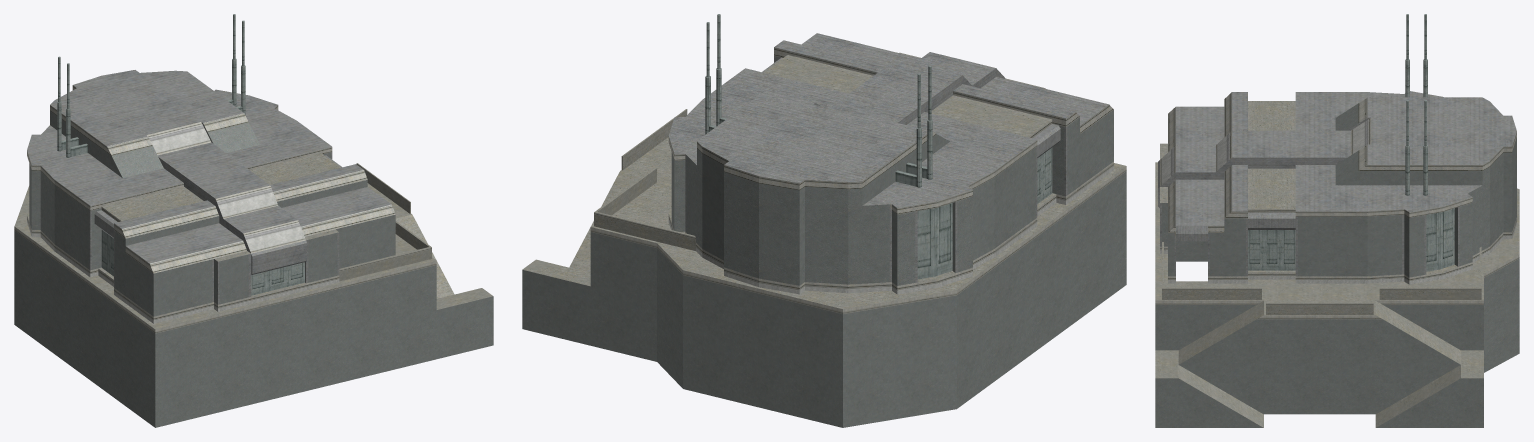
Rendered from ply_corl_hospital_s01_r0_exterior_mesh_l0.fbx.
3 views of the same model, side by side, from view 1: azimuth 30°, elevation 25°; view 2: azimuth 150°, elevation 25°; view 3: azimuth 270°, elevation 25° (orthographic). The views are drawn at different scales.
Visible parts, largest first — view 1: mesh_node; view 2: mesh_node; view 3: mesh_node.
Part boxes in pixels (bbox=[...]): mesh_node: bbox=[14, 14, 493, 427]; mesh_node: bbox=[522, 14, 1126, 427]; mesh_node: bbox=[1155, 14, 1519, 427].
Bounding box in the file's own units: 24.65 × 18.35 × 22.78.
